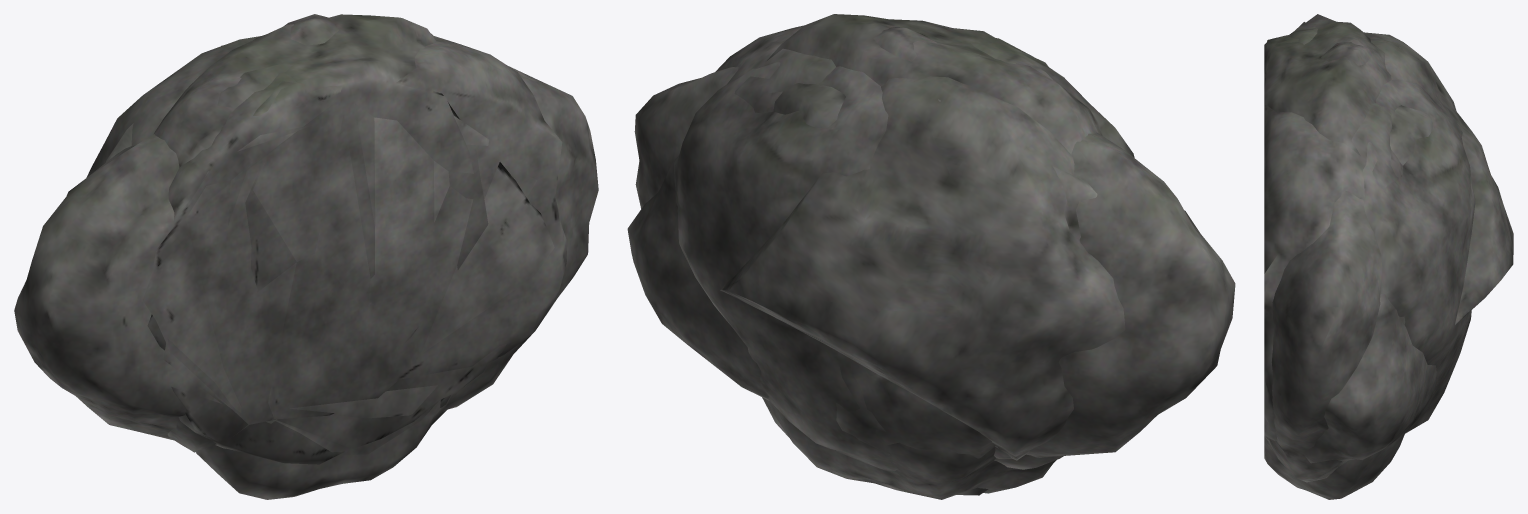
Rendered from rocks.glb.
The picture shows the model from 3 angles, left to right: view 1: azimuth 30°, elevation 25°; view 2: azimuth 150°, elevation 25°; view 3: azimuth 270°, elevation 25°; orthographic projection. The views are drawn at different scales.
Visible parts, largest first — view 1: rock_6, rock_1, rock_3, rock_4, rock_2, rock_5, rock_7, rock_0; view 2: rock_1, rock_0, rock_4, rock_3, rock_6, rock_2, rock_5, rock_7; view 3: rock_6, rock_0, rock_4, rock_3, rock_1, rock_2, rock_7.
Part boxes in pixels (x1,y1,x2,y2): rock_6: (245, 36, 566, 419); rock_1: (86, 36, 554, 464); rock_3: (154, 14, 473, 452); rock_4: (14, 66, 598, 440); rock_2: (196, 115, 488, 499); rock_5: (105, 123, 488, 423); rock_7: (272, 14, 450, 455); rock_0: (147, 64, 545, 350); rock_1: (720, 38, 1134, 460); rock_0: (674, 43, 1053, 471); rock_4: (634, 67, 1235, 457); rock_3: (754, 14, 1102, 469); rock_6: (627, 25, 1012, 458); rock_2: (762, 83, 1056, 499); rock_5: (891, 166, 1097, 495); rock_7: (873, 27, 936, 61); rock_6: (1264, 103, 1436, 463); rock_0: (1289, 22, 1475, 433); rock_4: (1269, 191, 1405, 482); rock_3: (1264, 14, 1402, 179); rock_1: (1264, 32, 1513, 442); rock_2: (1264, 105, 1432, 499); rock_7: (1265, 42, 1372, 444).
Size of what is drawn, in the model's own units: 2.85 by 2.16 by 1.16.
Materials: 1 (1 with a texture image).
